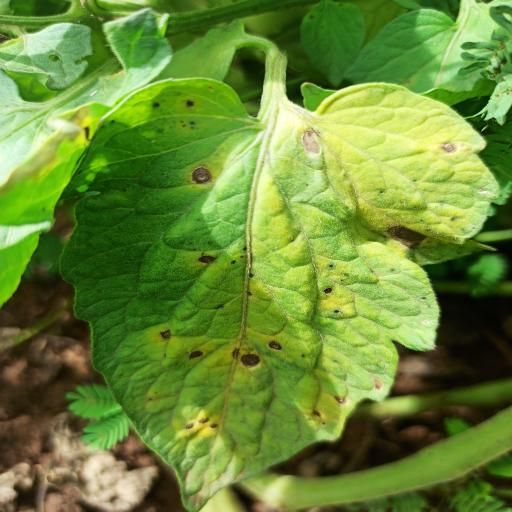Early Blight: (64, 80, 498, 505)
